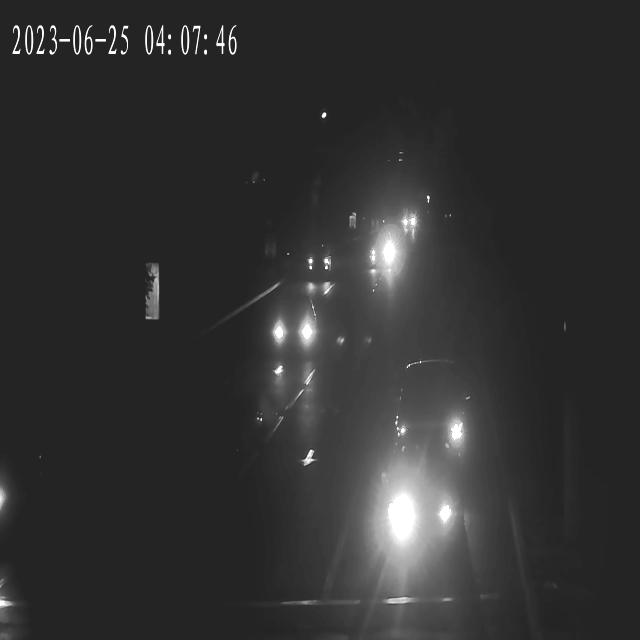Car: (386, 362, 478, 458), (374, 468, 456, 548), (264, 300, 323, 356), (364, 233, 400, 272), (307, 246, 336, 280), (304, 243, 332, 275), (398, 213, 417, 230)
